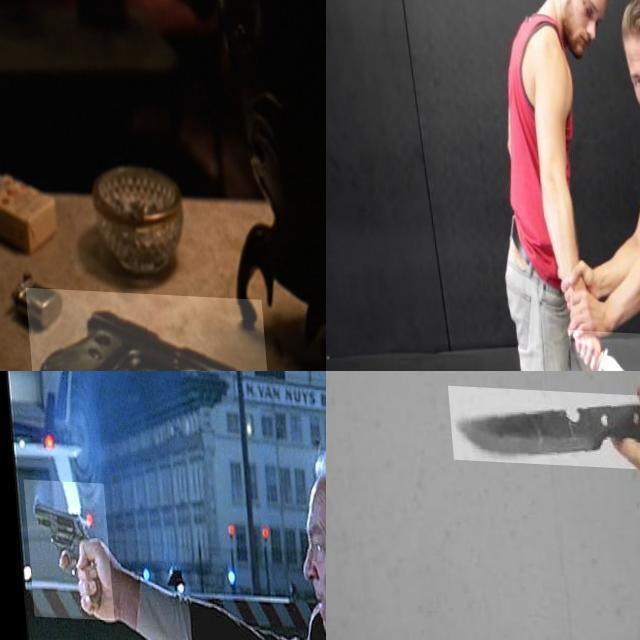-: (444, 383, 640, 467), (562, 327, 640, 371)
gun-knife-thesis - v11 Yolov5 augmented: (17, 285, 263, 371), (19, 480, 108, 620)
